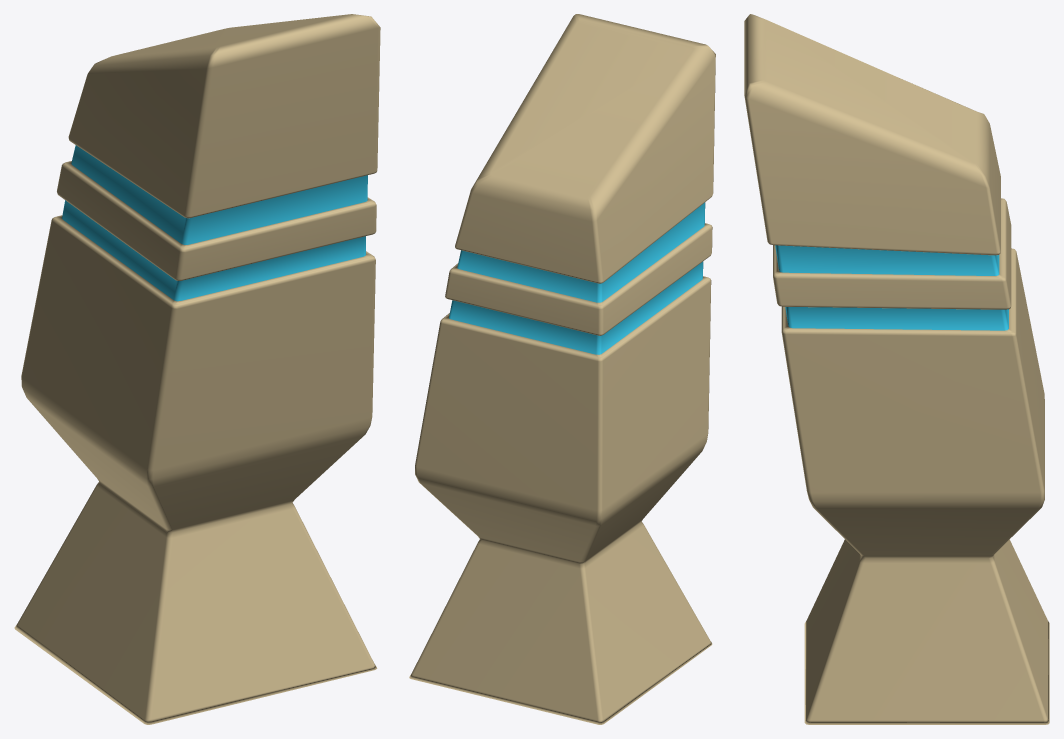
Rendered from SM_column_2.fbx.
3 renders of one model, left to right at view 1: azimuth 30°, elevation 25°; view 2: azimuth 150°, elevation 25°; view 3: azimuth 270°, elevation 25°, orthographic. The views are drawn at different scales.
Visible parts, largest first — view 1: pCube1; view 2: pCube1; view 3: pCube1.
Boxes of the visible parts, x1,y1,x2,y2 form: pCube1: [14, 14, 380, 724]; pCube1: [409, 14, 715, 724]; pCube1: [744, 14, 1049, 724].
Bounding box in the file's own units: 212 × 596 × 264.
